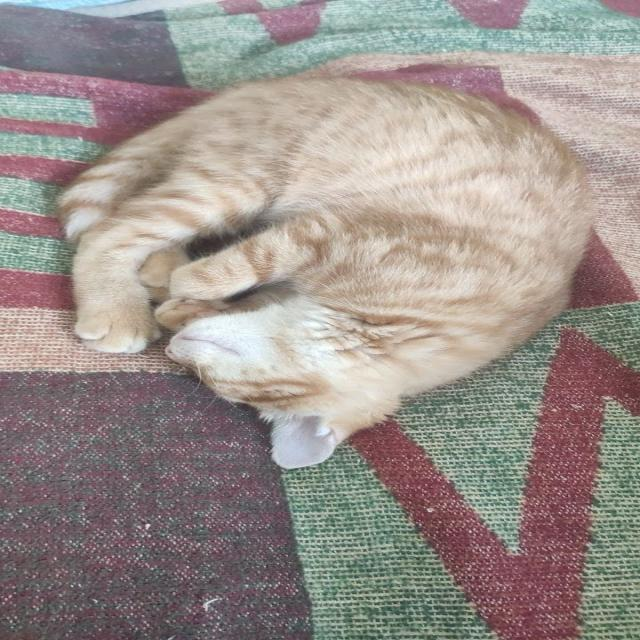red_cat: (39, 71, 612, 463)
